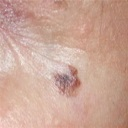Melanoma: (53, 65, 81, 95)
